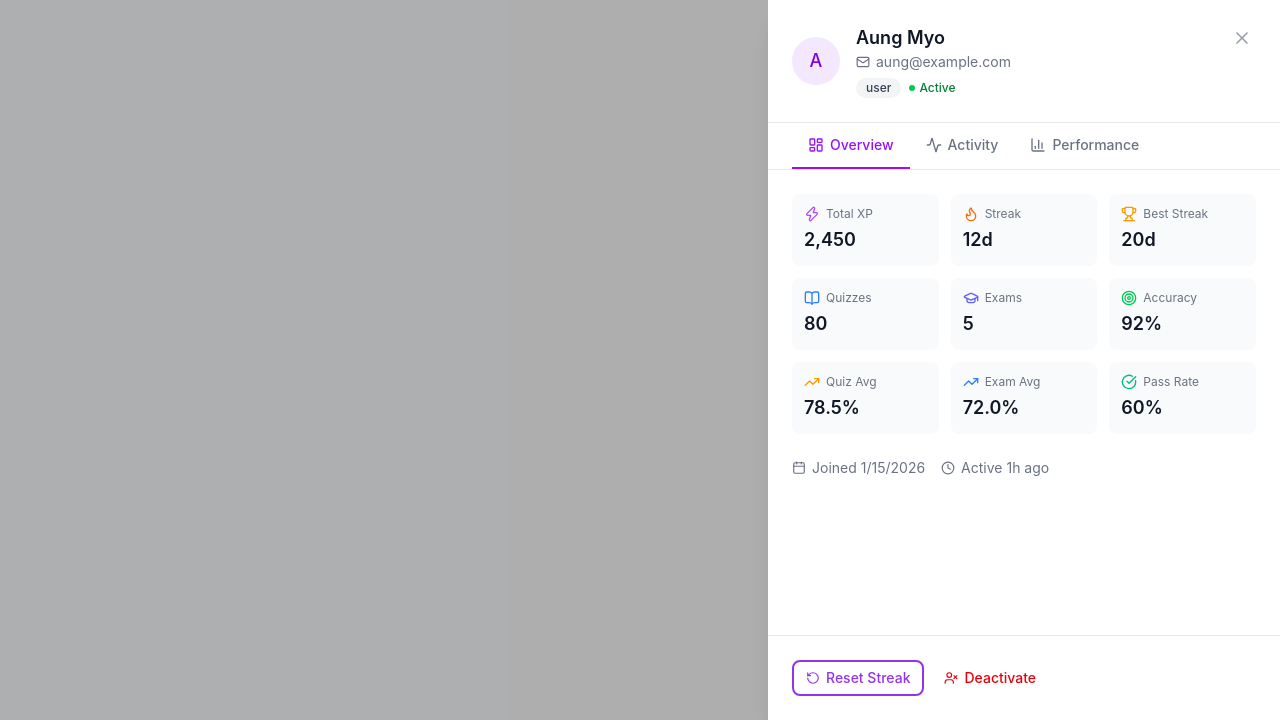
it: UserDrawer › switches to performance tab
This screenshot has width=1280, height=720.
What coordinates should you click on to do the following:
click the button "Performance"
I would click on:
 (1085, 146)
Its box is left=1014, top=123, right=1155, bottom=169.
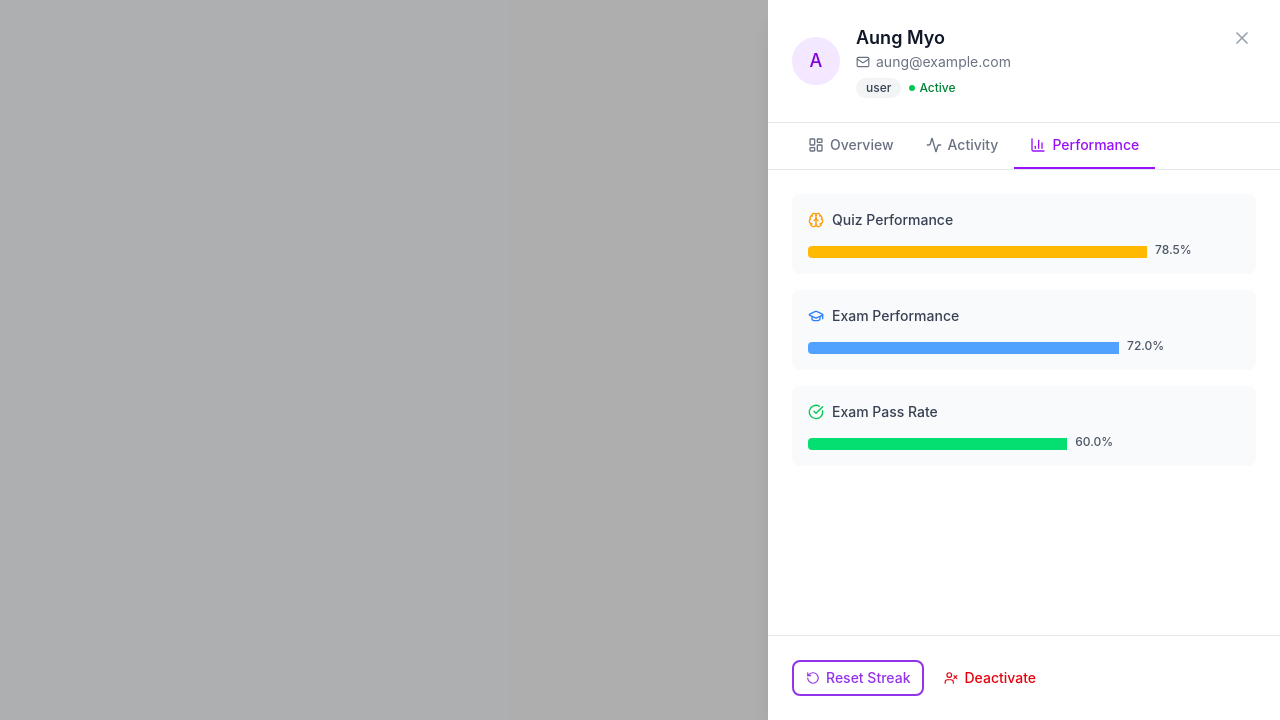
Now the heading "Quiz Performance" is shown, box left=832, top=210, right=953, bottom=230
